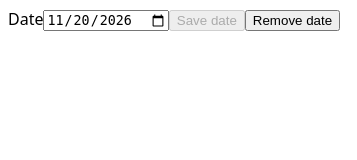
it: PlanDate › saves null on Remove date and empties the input
Click the button "Remove date": coordinates (292, 20) [245,10,340,31]
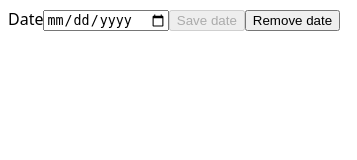
Expected: the date field labelled "Date" is empty, [44,10,169,31]
